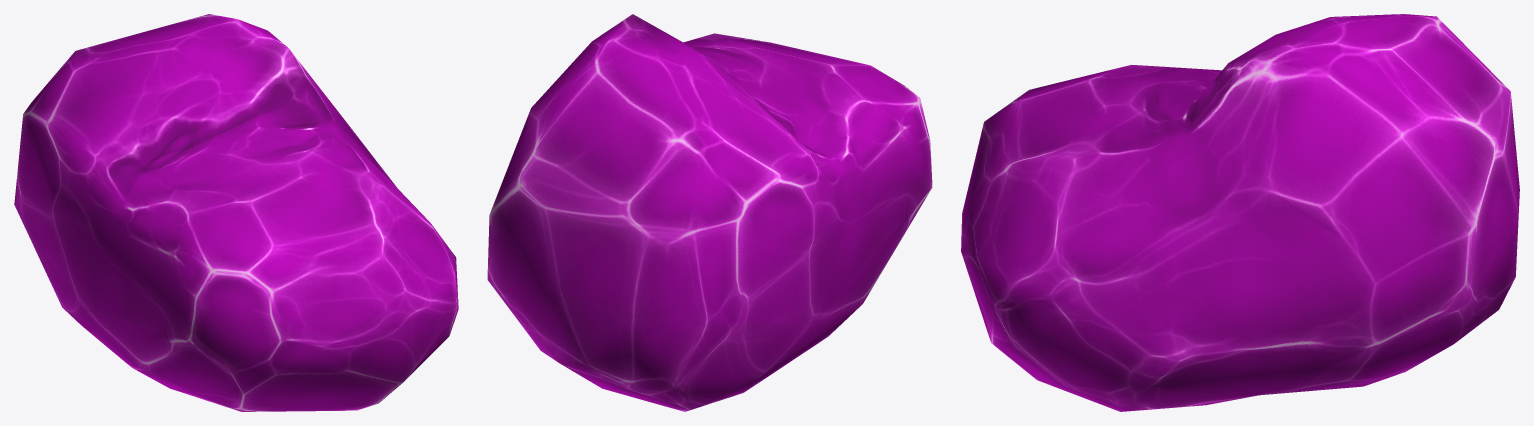
The model's file is sten_02.fbx.
3 views of the same model, side by side, from view 1: azimuth 30°, elevation 25°; view 2: azimuth 150°, elevation 25°; view 3: azimuth 270°, elevation 25° (orthographic). The views are drawn at different scales.
Visible parts, largest first — view 1: Low_Sten02; view 2: Low_Sten02; view 3: Low_Sten02.
Part boxes in pixels (bbox=[...]): Low_Sten02: bbox=[14, 14, 458, 411]; Low_Sten02: bbox=[487, 14, 932, 411]; Low_Sten02: bbox=[961, 14, 1519, 411].
Bounding box in the file's own units: 180 × 177 × 257.
